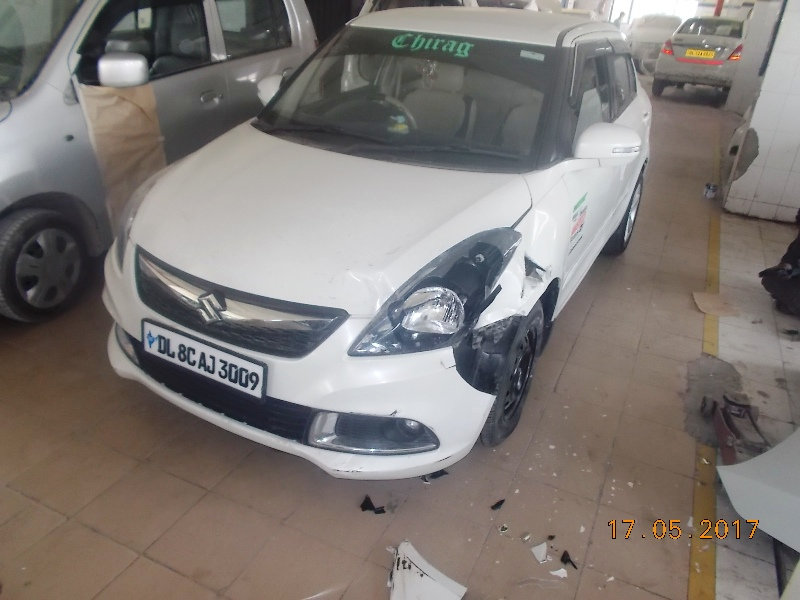Tear: (443, 339, 495, 406), (513, 237, 550, 289)
